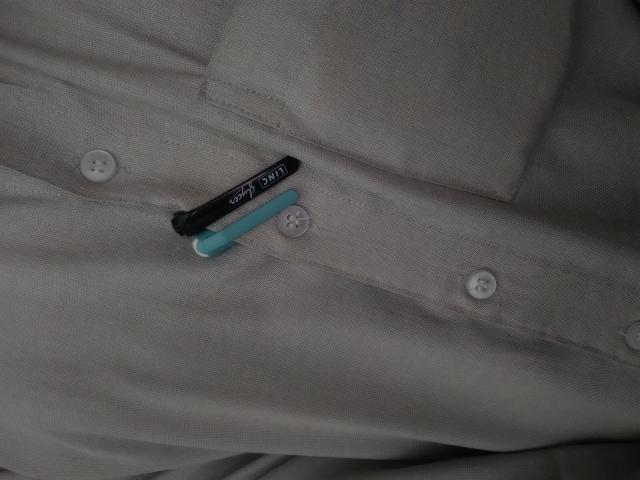PEN: (217, 150, 332, 316)
